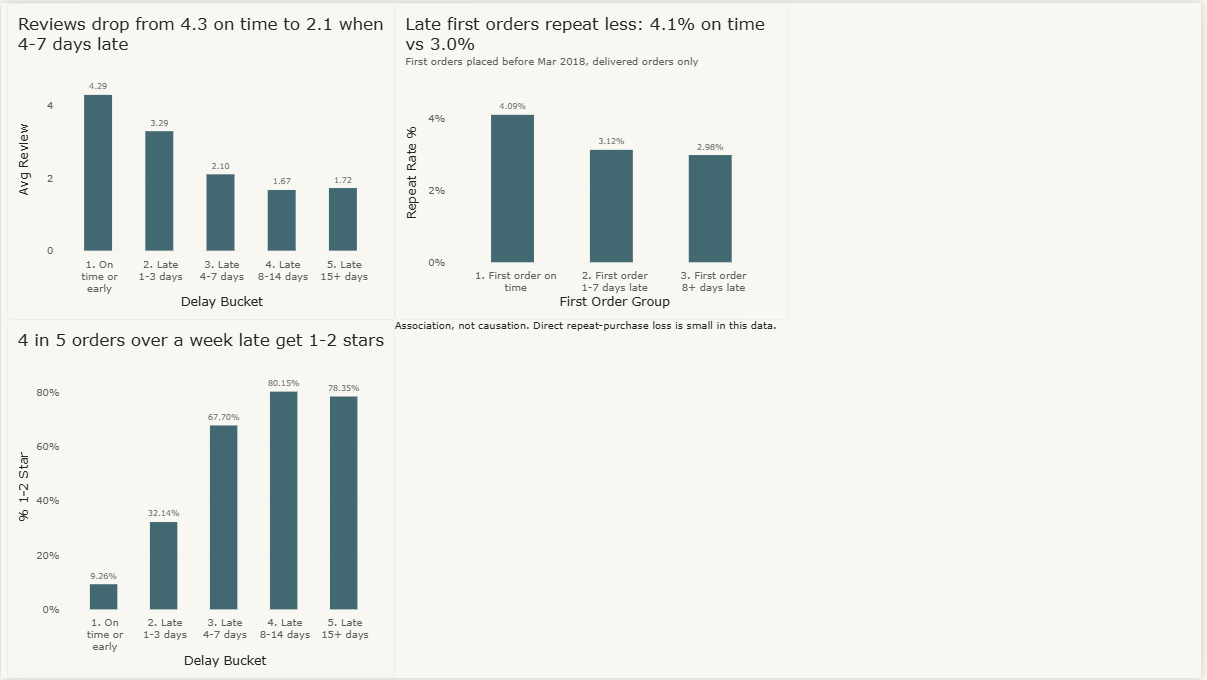

Layout of this report page (visuals, bound fields, positions):
{"tool":"powerbi","page":{"name":"Customer Impact","canvas":[1920,1080],"ordinal":2},"visuals":[{"type":"columnChart","title":"Reviews drop from 4.3 on time to 2.1 when 4-7 days late","fields":{"Category":["fact_orders.delay_bucket"],"Y":["fact_orders.Avg Review"]},"box":[10,0,620,506],"z":0},{"type":"columnChart","title":"4 in 5 orders over a week late get 1-2 stars","fields":{"Category":["fact_orders.delay_bucket"],"Y":["fact_orders.% 1-2 Star"]},"box":[10,506,620,574],"z":1000},{"type":"columnChart","title":"Late first orders repeat less: 4.1% on time vs 3.0%","fields":{"Category":["fact_orders.first_order_group"],"Y":["fact_orders.Repeat Rate %"]},"box":[630,0,630,506],"z":2000},{"type":"textbox","box":[630,506,630,118],"z":3000}]}

Visuals, with their boxes in screenshot pixels (x1, y1, x2, y2), scaled from the page's 1920x1080 canvas onto the 1207x680 screenshot:
"Reviews drop from 4.3 on time to 2.1 when 4-7 days late" columnChart: select_region(6, 0, 396, 319)
"4 in 5 orders over a week late get 1-2 stars" columnChart: select_region(6, 319, 396, 679)
"Late first orders repeat less: 4.1% on time vs 3.0%" columnChart: select_region(396, 0, 792, 319)
textbox: select_region(396, 319, 792, 393)
